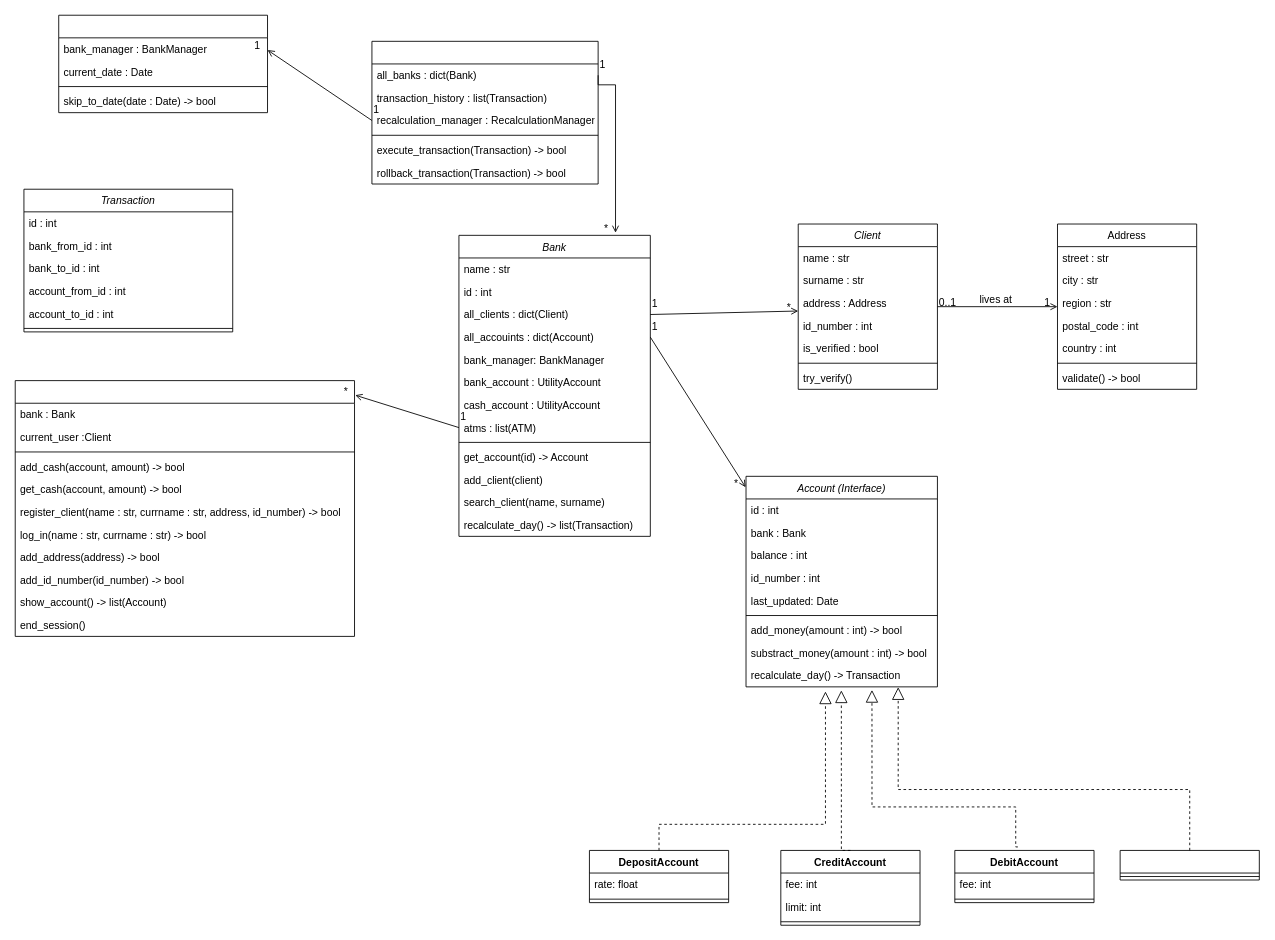
The diagram is 1275 pixels wide and 940 high, and some of its shapes have lost their labels. The shapes that lost their labels are listed below. From the top down, each one's box as (x1, y1, x2, y2) in pixels, then its label:
(58, 14, 268, 113): RecalculatiionManager
(371, 40, 598, 184): BankManager
(14, 380, 355, 636): ATM
(1119, 850, 1259, 880): UtilityAccount
